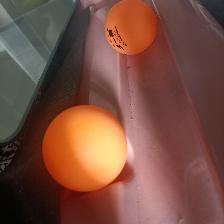YellowBall: (41, 104, 128, 192), (103, 1, 158, 57)
